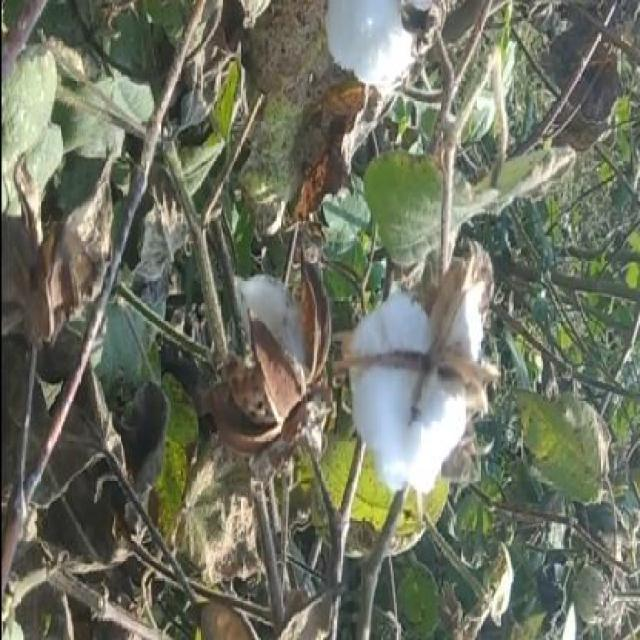cotton_ready: (347, 230, 513, 472)
